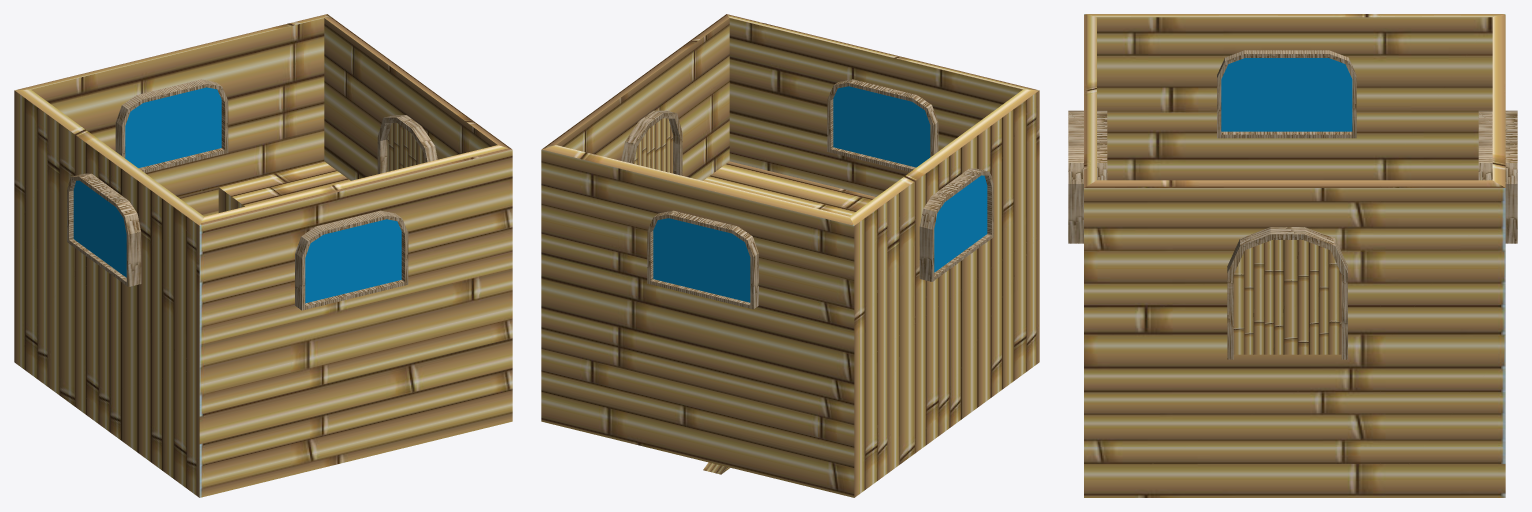
Rendered from CajaCasa 3.3 Interior 2.fbx.
The picture shows the model from 3 angles, left to right: view 1: azimuth 30°, elevation 25°; view 2: azimuth 150°, elevation 25°; view 3: azimuth 270°, elevation 25°; orthographic projection. The views are drawn at different scales.
Parts seen in each view (by area): view 1: Cube.008; view 2: Cube.008; view 3: Cube.008.
Boxes of the visible parts, bbox=[...] form: Cube.008: bbox=[14, 14, 512, 497]; Cube.008: bbox=[541, 14, 1039, 497]; Cube.008: bbox=[1068, 14, 1517, 497].
Bounding box in the file's own units: 420 × 340 × 424.
Materials: 10 (7 with a texture image).
